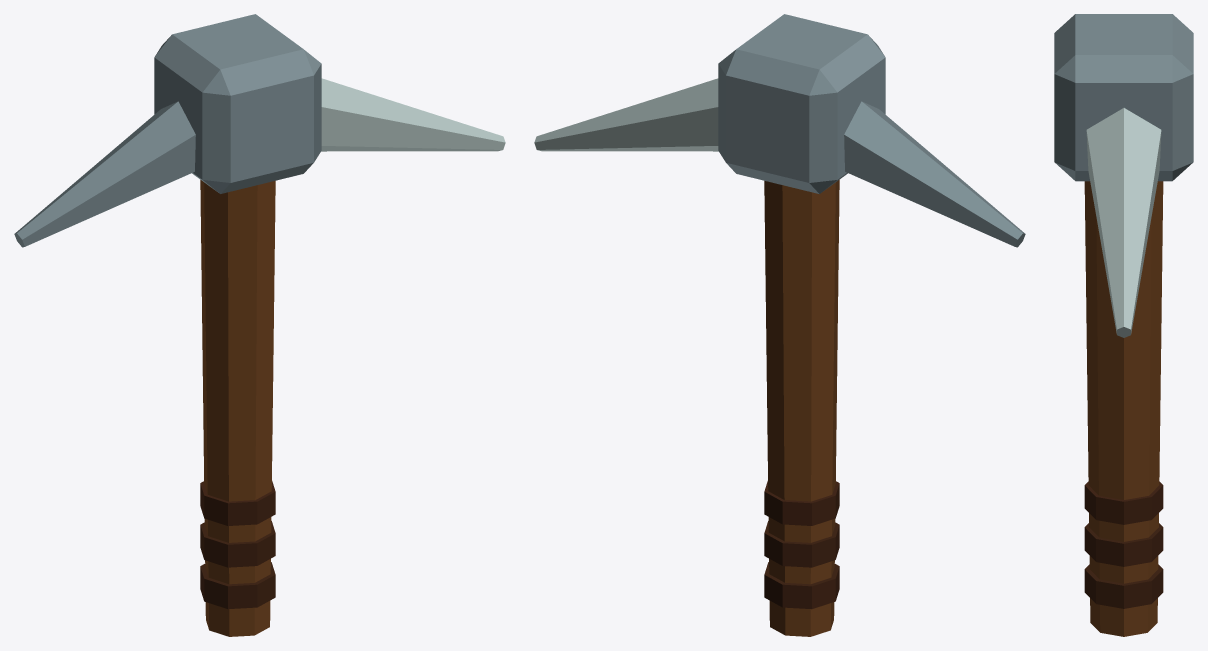
File: PickTool.fbx
3 renders of one model, left to right at view 1: azimuth 30°, elevation 25°; view 2: azimuth 150°, elevation 25°; view 3: azimuth 270°, elevation 25°, orthographic.
Visible parts, largest first — view 1: PickTool_Mesh; view 2: PickTool_Mesh; view 3: PickTool_Mesh.
Boxes of the visible parts, bbox=[...] form: PickTool_Mesh: bbox=[14, 14, 505, 636]; PickTool_Mesh: bbox=[534, 14, 1025, 636]; PickTool_Mesh: bbox=[1054, 14, 1193, 636].
Size of the model in its own units: 0.4902 by 0.56 by 0.12.
